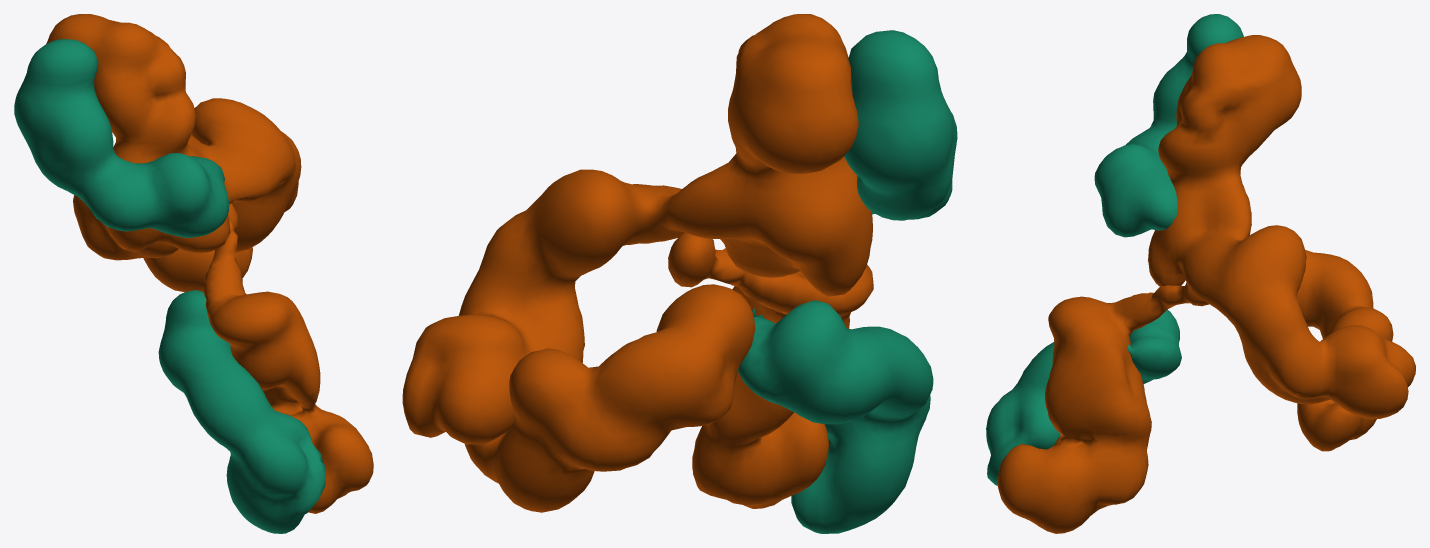
File: 1IGT.glb
3 views of the same model, side by side, from view 1: azimuth 30°, elevation 25°; view 2: azimuth 150°, elevation 25°; view 3: azimuth 270°, elevation 25° (orthographic). The views are drawn at different scales.
Size of the model in its own units: 106 by 147 by 130.
